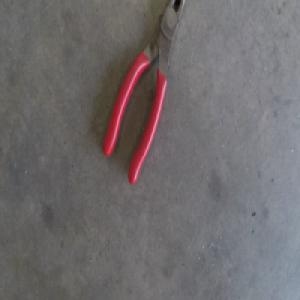Pliers: (101, 0, 184, 186)
